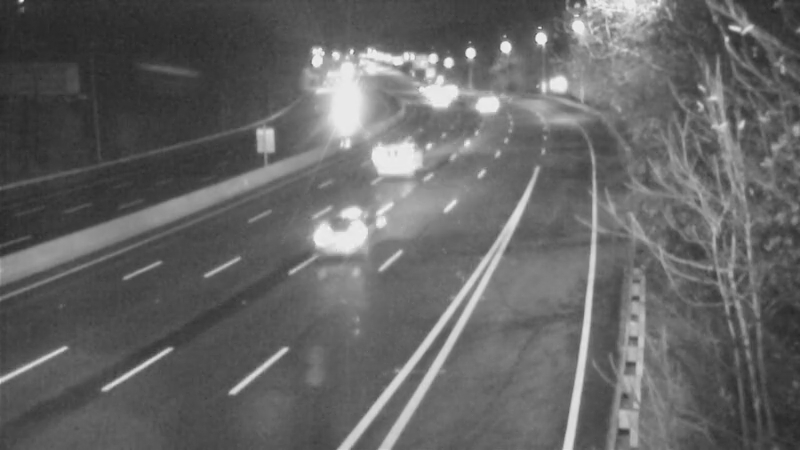vehicle: (364, 119, 444, 199), (309, 188, 389, 268), (395, 68, 445, 118), (413, 77, 463, 127), (458, 81, 508, 131)
